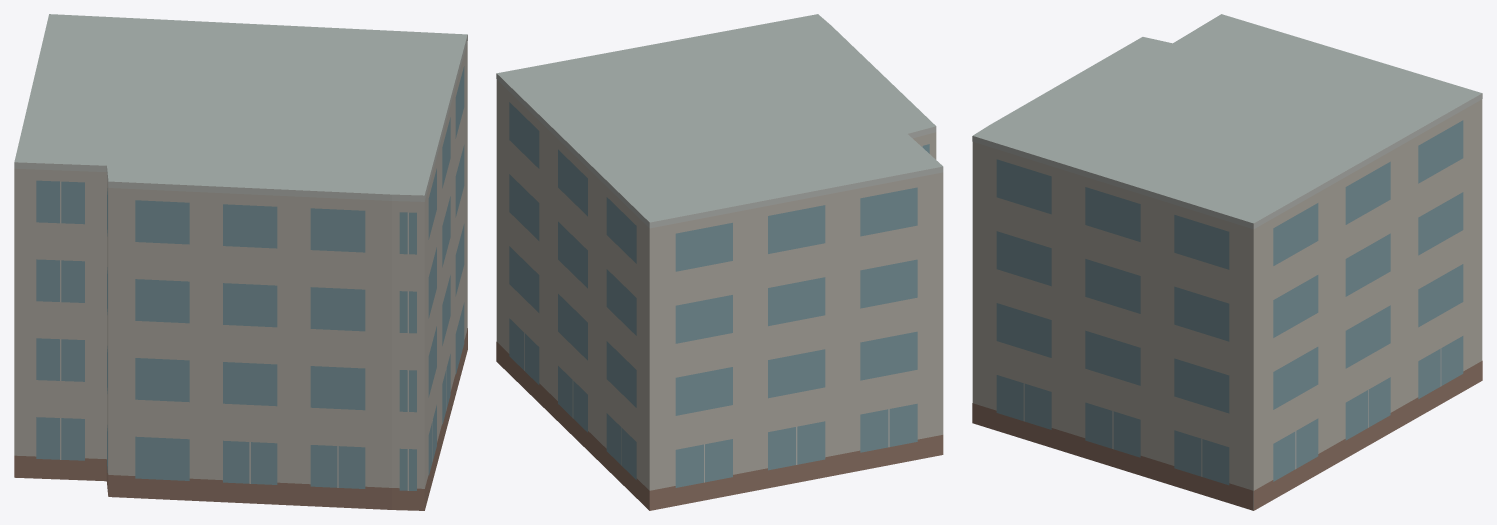
Rendered from survey-upis-32879306.glb.
The picture shows the model from 3 angles, left to right: view 1: azimuth 30°, elevation 25°; view 2: azimuth 150°, elevation 25°; view 3: azimuth 270°, elevation 25°; orthographic projection. The views are drawn at different scales.
Parts seen in each view (by area): view 1: survey-upis-32879306.tmp; view 2: survey-upis-32879306.tmp; view 3: survey-upis-32879306.tmp.
Part boxes in pixels (<box>): survey-upis-32879306.tmp: <box>14,14,467,510</box>; survey-upis-32879306.tmp: <box>496,14,943,510</box>; survey-upis-32879306.tmp: <box>972,14,1482,510</box>.
Size of the model in its own units: 18.77 by 12 by 19.31.
